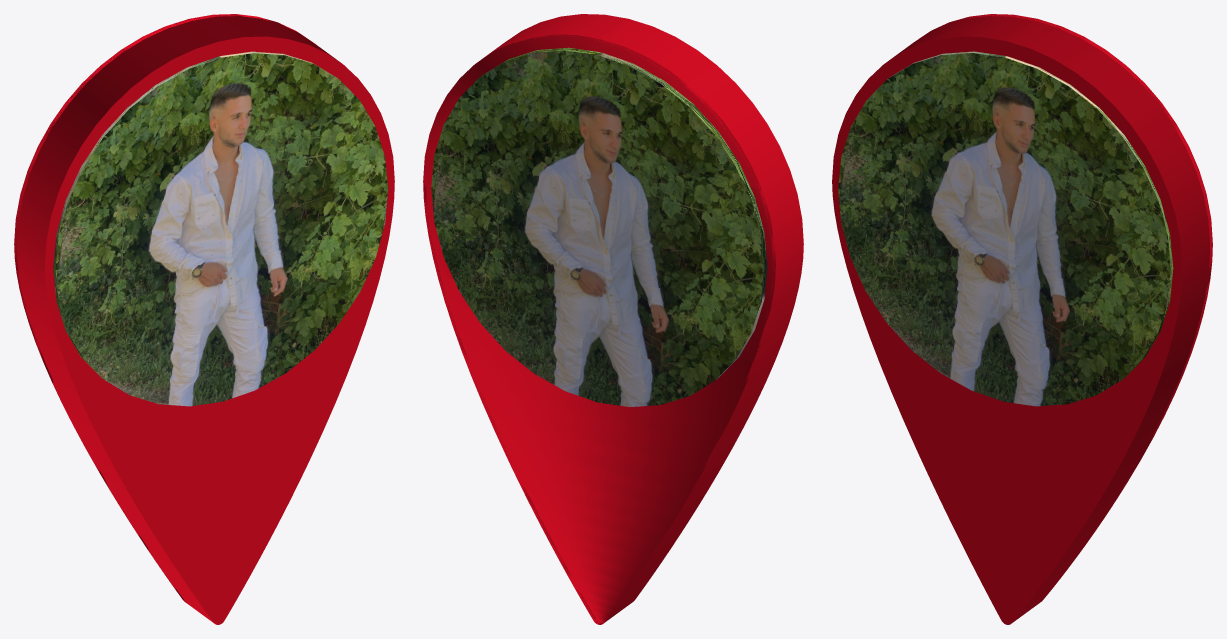
The model's file is maxence.glb.
3 renders of one model, left to right at view 1: azimuth 30°, elevation 25°; view 2: azimuth 150°, elevation 25°; view 3: azimuth 330°, elevation 25°, orthographic.
Visible parts, largest first — view 1: Cylindre, Curve; view 2: Cylindre, Curve; view 3: Cylindre, Curve.
Part boxes in pixels (<box>): Cylindre: <box>53,51,388,406</box>; Curve: <box>14,14,394,624</box>; Cylindre: <box>431,47,767,406</box>; Curve: <box>423,14,803,624</box>; Cylindre: <box>838,51,1173,406</box>; Curve: <box>832,14,1212,624</box>.
Size of the model in its own units: 0.2766 by 0.4404 by 0.0478.
2 materials, 1 textured.
